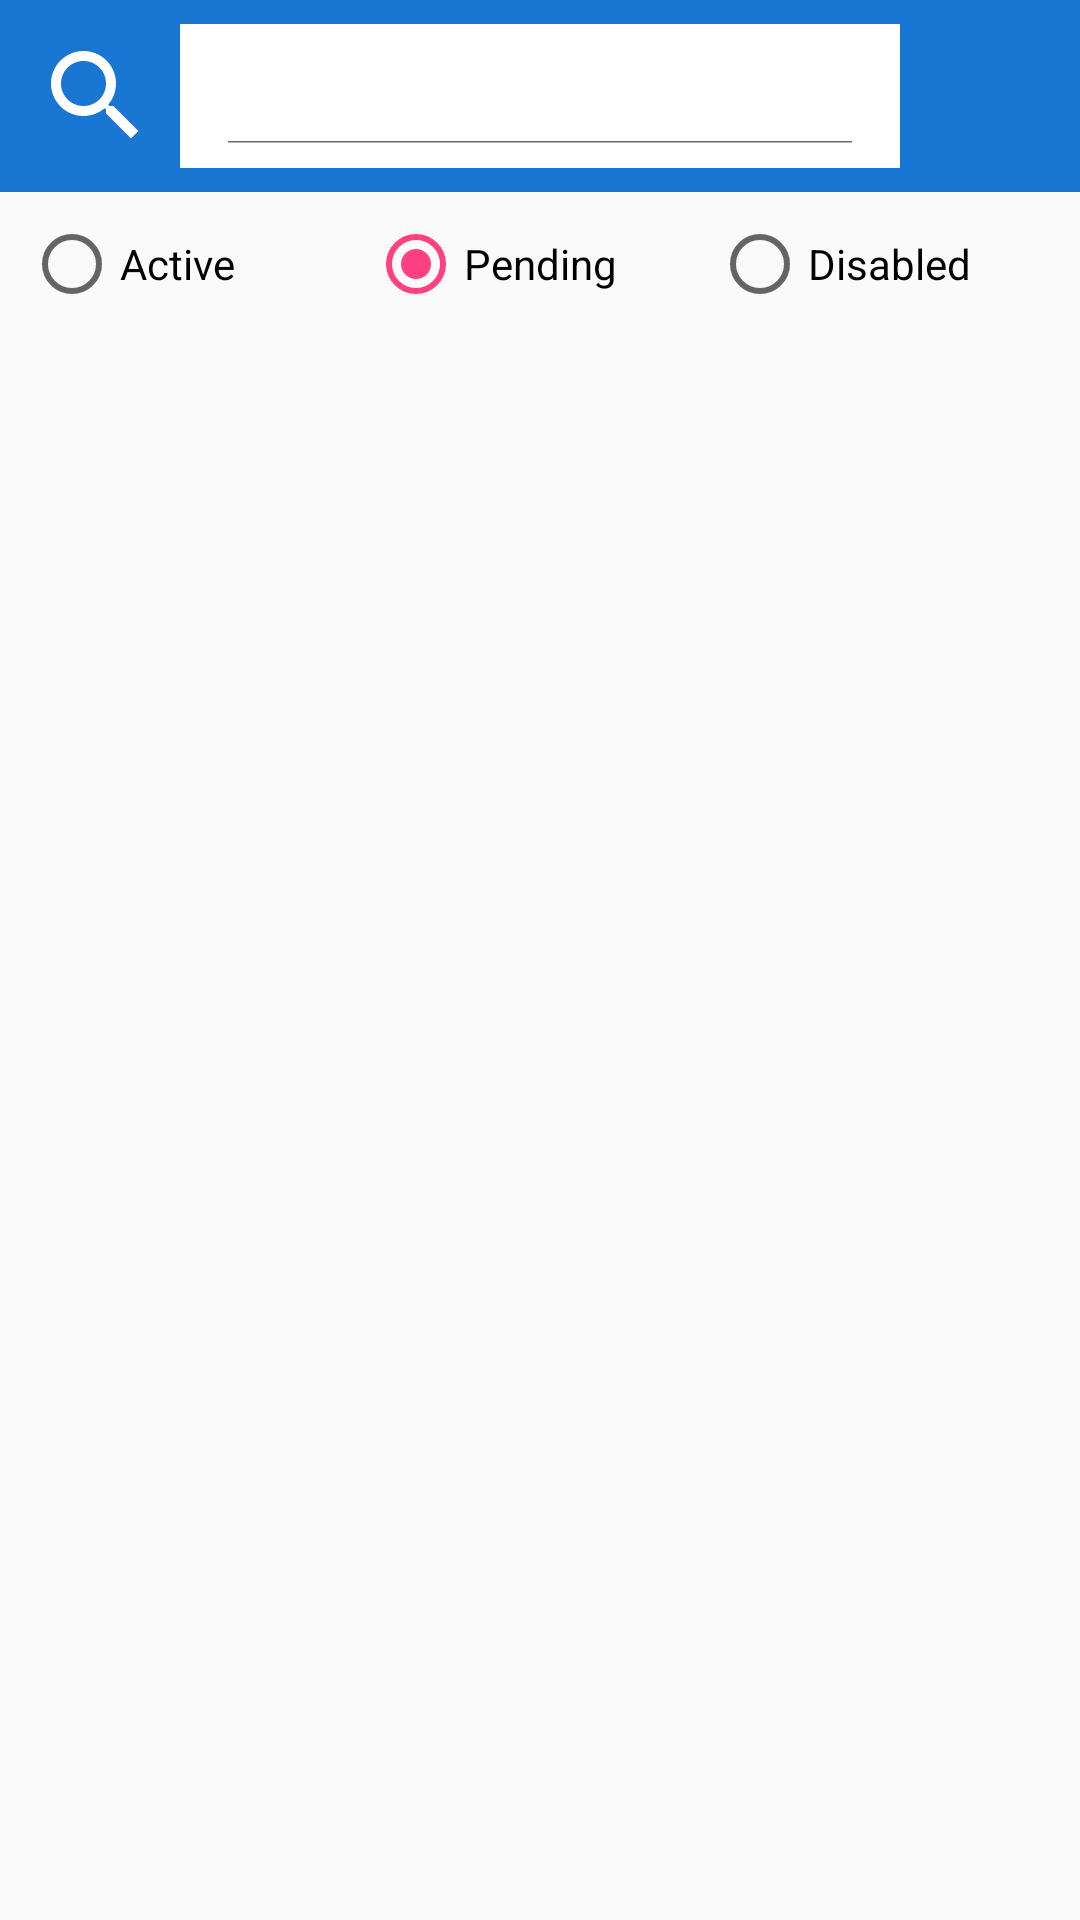

Named icons in this screenshot (1080*1920) and their centers, point (x, y):
Search: point (94, 94)
